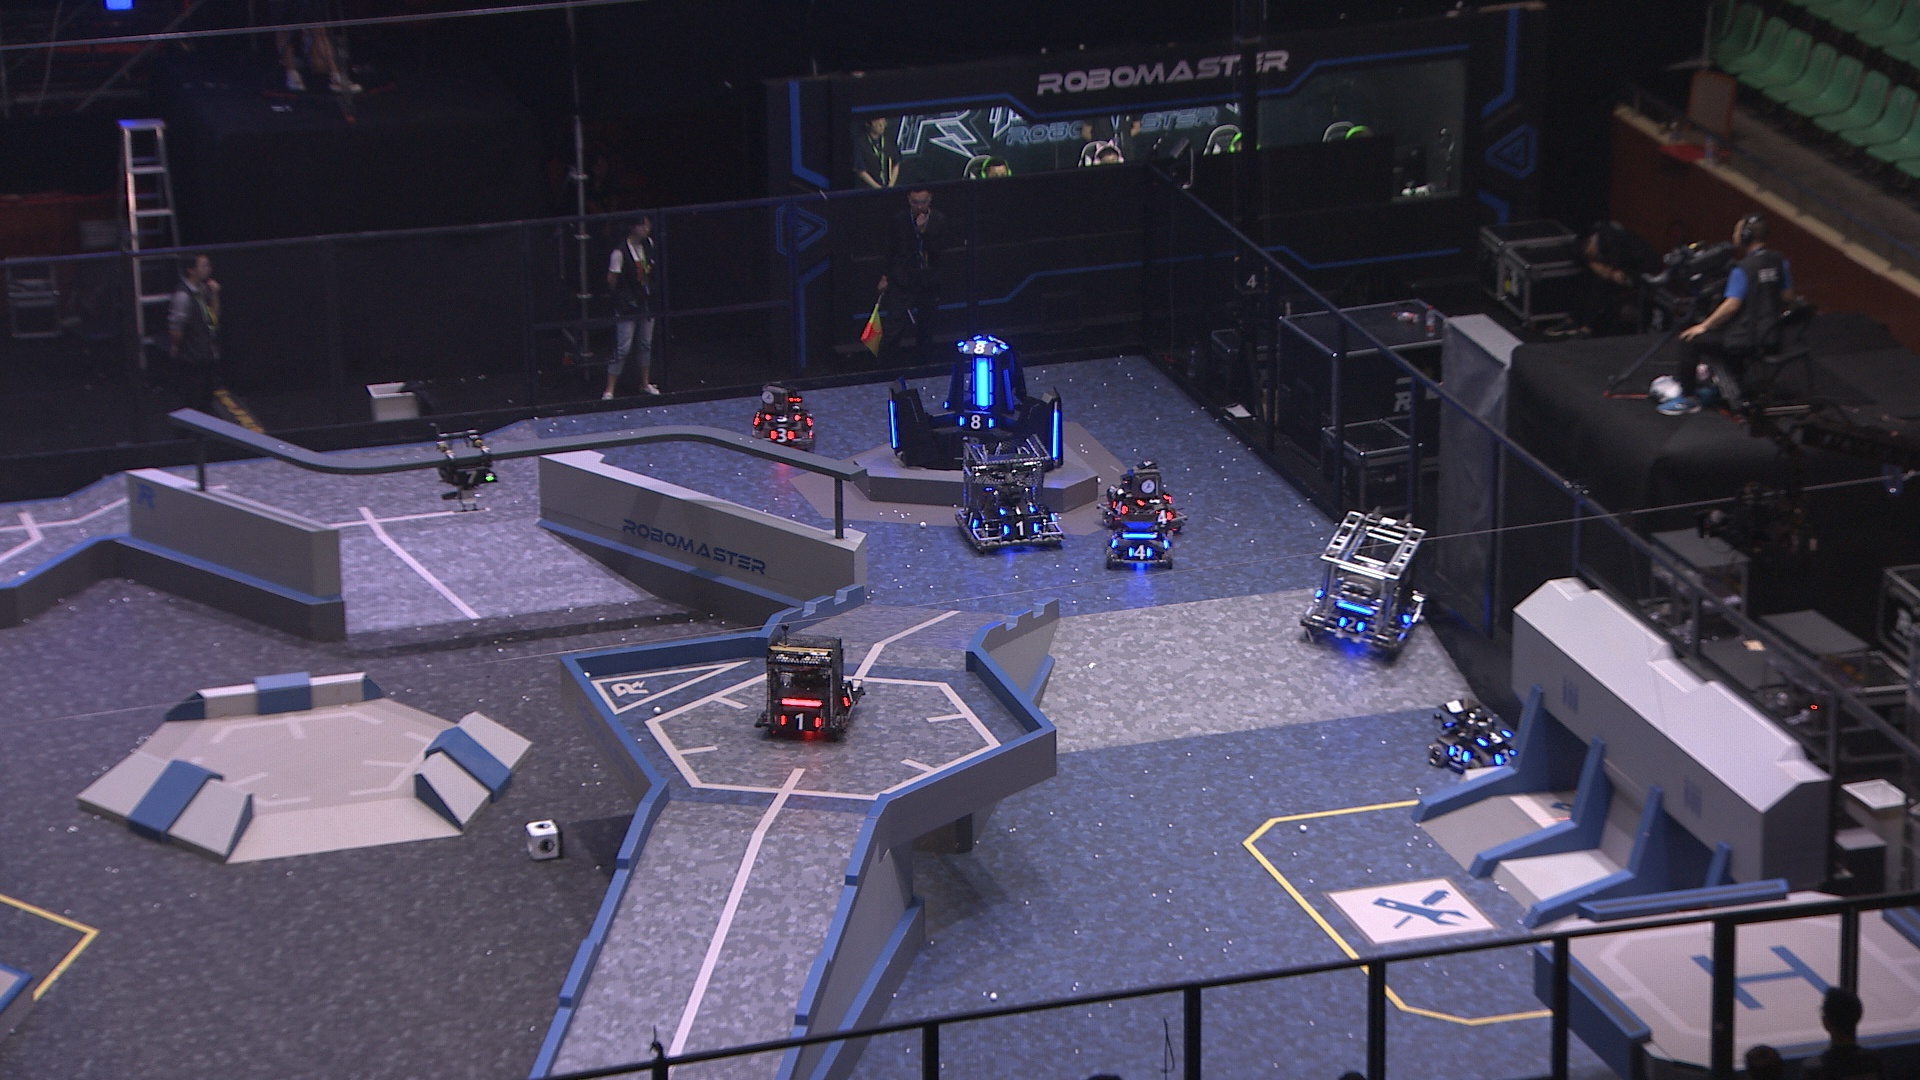armor: (971, 357, 996, 410), (775, 709, 825, 735), (884, 396, 901, 452), (454, 465, 498, 487), (957, 409, 996, 433), (1001, 520, 1040, 542), (1131, 489, 1172, 509), (1001, 367, 1017, 415), (1474, 727, 1513, 746), (996, 500, 1039, 517), (764, 425, 798, 446), (1337, 613, 1367, 637), (1048, 411, 1060, 462), (1447, 742, 1474, 764), (764, 407, 799, 423), (839, 683, 858, 711), (960, 508, 982, 531), (959, 342, 994, 356), (1494, 746, 1519, 766), (1130, 542, 1155, 560), (1110, 496, 1133, 516), (1156, 510, 1176, 527)
base: (880, 327, 1067, 473)
car: (1295, 505, 1428, 669), (951, 431, 1067, 553), (756, 624, 870, 742), (1428, 694, 1528, 782), (1098, 462, 1185, 535), (746, 378, 818, 451), (1105, 508, 1174, 570)
watcher: (430, 423, 501, 516)
